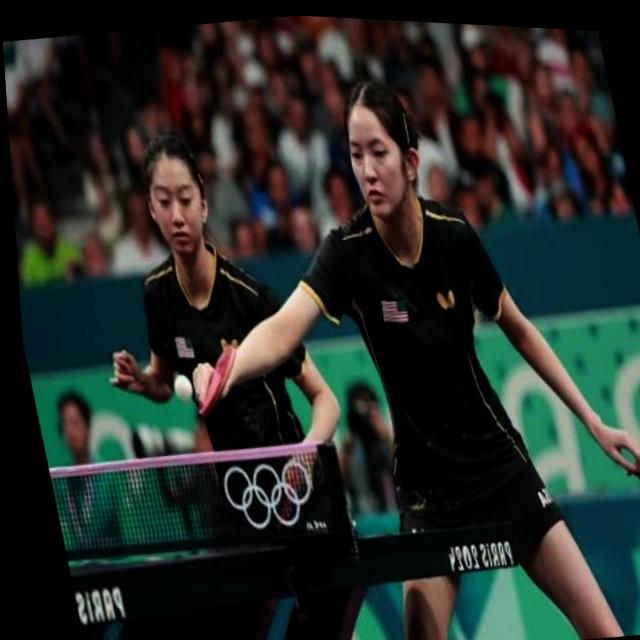TT Net: (49, 438, 358, 561)
TT Racket: (194, 341, 241, 415)
TT Table: (68, 515, 495, 585)
